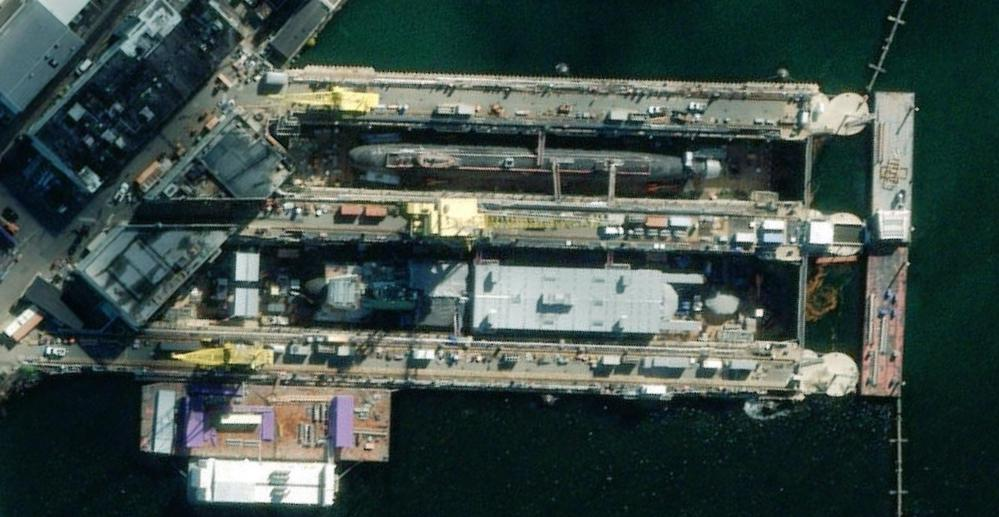submarine: (341, 126, 728, 199)
